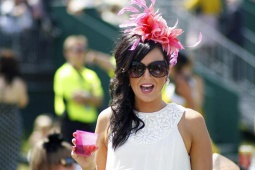female: (117, 32, 175, 112)
